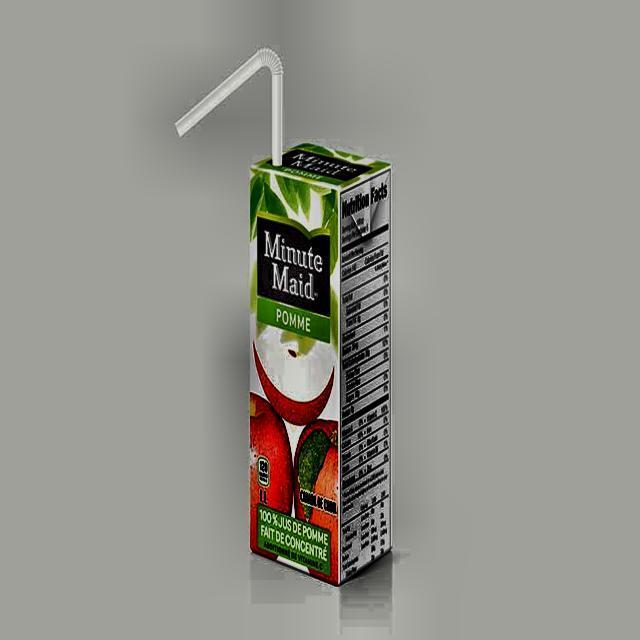cardboard: (248, 141, 393, 586)
